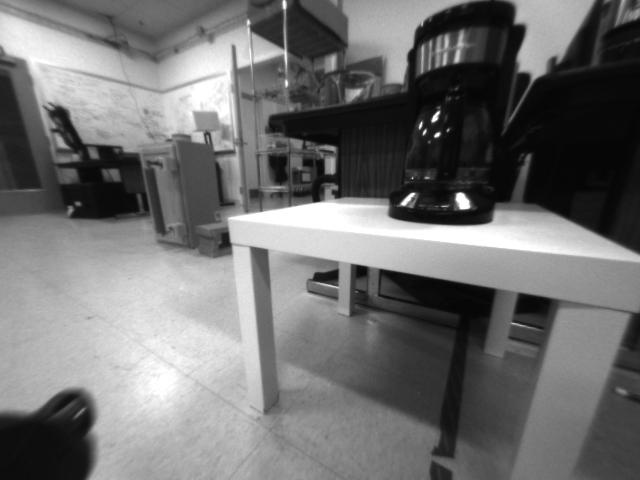coffee_pot: (388, 13, 525, 228)
